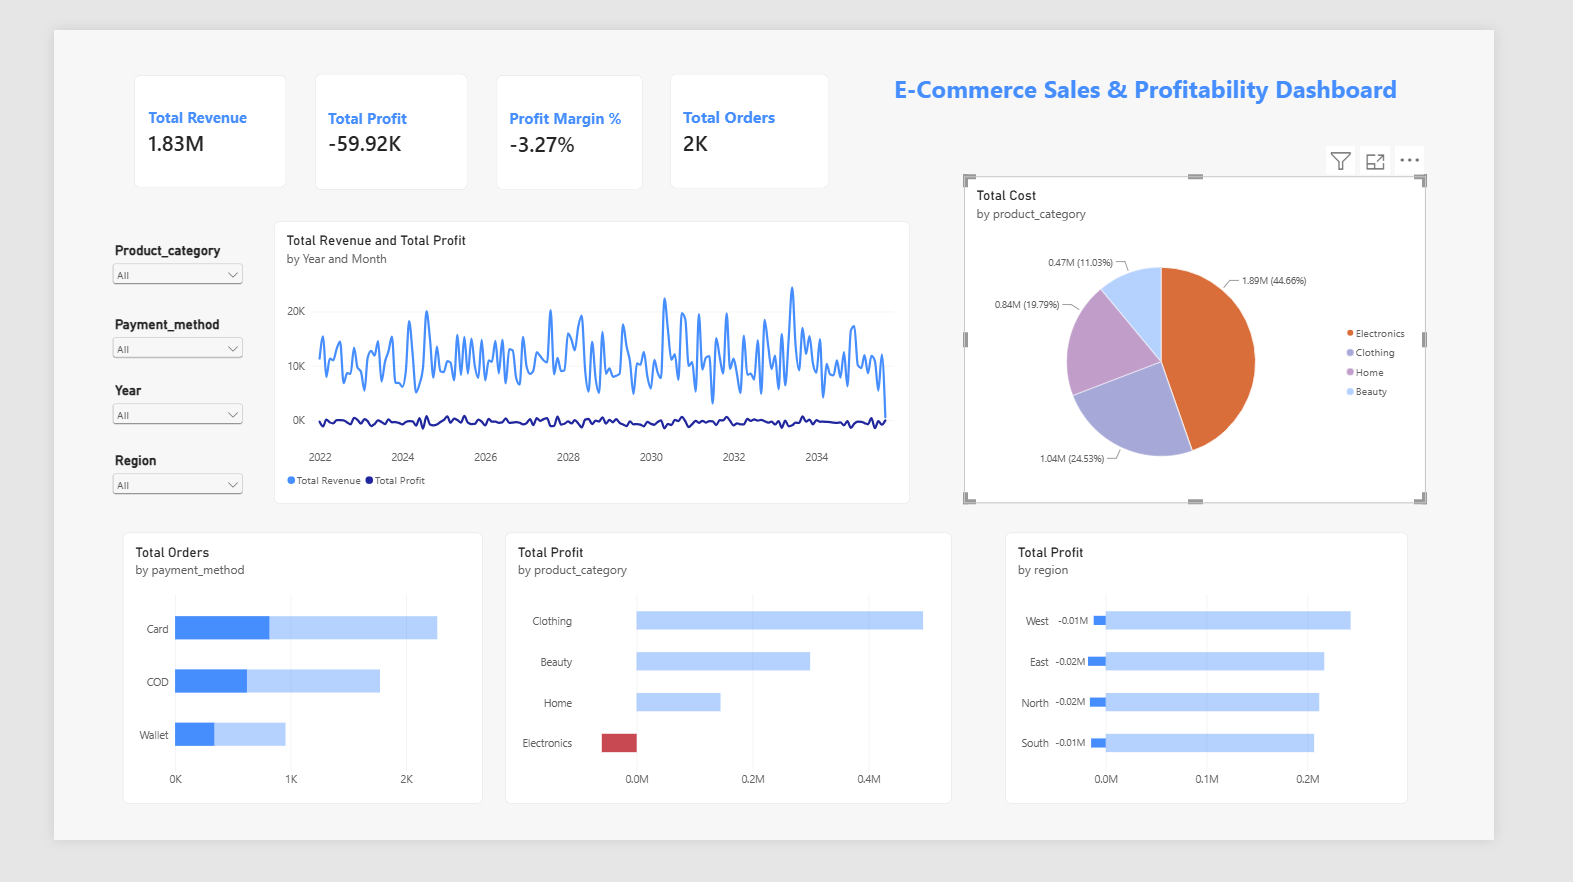

The dashboard page shown, as its layout file describes it:
{"tool":"powerbi","page":{"name":"Page 1","canvas":[1920,1080],"ordinal":0},"visuals":[{"type":"cardVisual","fields":{"Data":["cleaned_ecommerce_sales.Total Revenue"]},"box":[106.7,60,203.8,150.3],"z":0},{"type":"cardVisual","fields":{"Data":["cleaned_ecommerce_sales.Total Profit"]},"box":[348.3,58.3,203.3,155],"z":1000},{"type":"cardVisual","fields":{"Data":["cleaned_ecommerce_sales.Profit Margin %"]},"box":[590,60,195,153.3],"z":2000},{"type":"cardVisual","fields":{"Data":["cleaned_ecommerce_sales.Total Orders"]},"box":[821.7,58.3,211.7,153.3],"z":3000},{"type":"lineChart","fields":{"Category":["cleaned_ecommerce_sales.order_date.Variation.Date Hierarchy.Year","cleaned_ecommerce_sales.order_date.Variation.Date Hierarchy.Month"],"Y":["cleaned_ecommerce_sales.Total Revenue","cleaned_ecommerce_sales.Total Profit"]},"box":[293.3,255,848.3,376.7],"z":4000},{"type":"clusteredBarChart","fields":{"Category":["cleaned_ecommerce_sales.product_category"],"Y":["cleaned_ecommerce_sales.Total Profit"]},"box":[601.7,670,595,361.7],"z":5000},{"type":"barChart","fields":{"Category":["cleaned_ecommerce_sales.region"],"Y":["cleaned_ecommerce_sales.Total Profit"]},"box":[1268.3,670,536.7,361.7],"z":6000},{"type":"pieChart","fields":{"Category":["cleaned_ecommerce_sales.product_category"],"Y":["cleaned_ecommerce_sales.Total Cost"]},"box":[1213.3,195,615,436.7],"z":7000},{"type":"barChart","fields":{"Category":["cleaned_ecommerce_sales.payment_method"],"Y":["cleaned_ecommerce_sales.Total Orders"]},"box":[91.7,670,480,361.7],"z":8000},{"type":"slicer","title":"Region","fields":{"Values":["cleaned_ecommerce_sales.region"]},"box":[73.3,563.3,183.3,68.3],"z":9000},{"type":"slicer","fields":{"Values":["cleaned_ecommerce_sales.product_category"]},"box":[73.3,283.3,183.3,63.3],"z":10000},{"type":"slicer","fields":{"Values":["cleaned_ecommerce_sales.payment_method"]},"box":[73.3,381.7,183.3,61.7],"z":10001},{"type":"slicer","fields":{"Values":["cleaned_ecommerce_sales.order_date.Variation.Date Hierarchy.Year"]},"box":[73.3,470,183.3,70],"z":10002},{"type":"textbox","box":[1120,56.7,708.3,61.7],"z":10003}]}

Visuals, with their boxes in screenshot pixels (x1, y1, x2, y2), scaled from the page's 1920x1080 canvas onto the 1573x882 screenshot:
cardVisual - cleaned_ecommerce_sales.Total Revenue: select_region(87, 49, 254, 172)
cardVisual - cleaned_ecommerce_sales.Total Profit: select_region(285, 48, 452, 174)
cardVisual - cleaned_ecommerce_sales.Profit Margin %: select_region(483, 49, 643, 174)
cardVisual - cleaned_ecommerce_sales.Total Orders: select_region(673, 48, 847, 173)
lineChart - cleaned_ecommerce_sales.order_date.Variation.Date Hierarchy.Year x cleaned_ecommerce_sales.order_date.Variation.Date Hierarchy.Month: select_region(240, 208, 935, 516)
clusteredBarChart - cleaned_ecommerce_sales.product_category x cleaned_ecommerce_sales.Total Profit: select_region(493, 547, 980, 843)
barChart - cleaned_ecommerce_sales.region x cleaned_ecommerce_sales.Total Profit: select_region(1039, 547, 1479, 843)
pieChart - cleaned_ecommerce_sales.product_category x cleaned_ecommerce_sales.Total Cost: select_region(994, 159, 1498, 516)
barChart - cleaned_ecommerce_sales.payment_method x cleaned_ecommerce_sales.Total Orders: select_region(75, 547, 468, 843)
"Region" slicer: select_region(60, 460, 210, 516)
slicer - cleaned_ecommerce_sales.product_category: select_region(60, 231, 210, 283)
slicer - cleaned_ecommerce_sales.payment_method: select_region(60, 312, 210, 362)
slicer - cleaned_ecommerce_sales.order_date.Variation.Date Hierarchy.Year: select_region(60, 384, 210, 441)
textbox: select_region(918, 46, 1498, 97)
